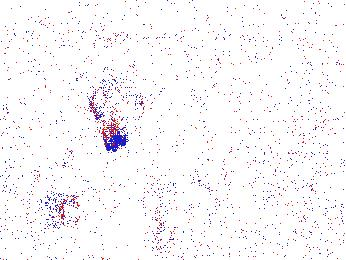flame jellyfish: (88, 76, 148, 152), (155, 176, 225, 239), (1, 168, 80, 216)
